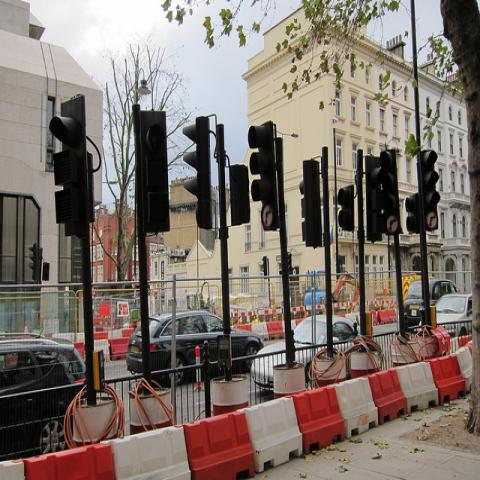car: (0, 334, 88, 460), (127, 310, 263, 388), (251, 314, 360, 391), (416, 292, 472, 348), (404, 278, 459, 326)
